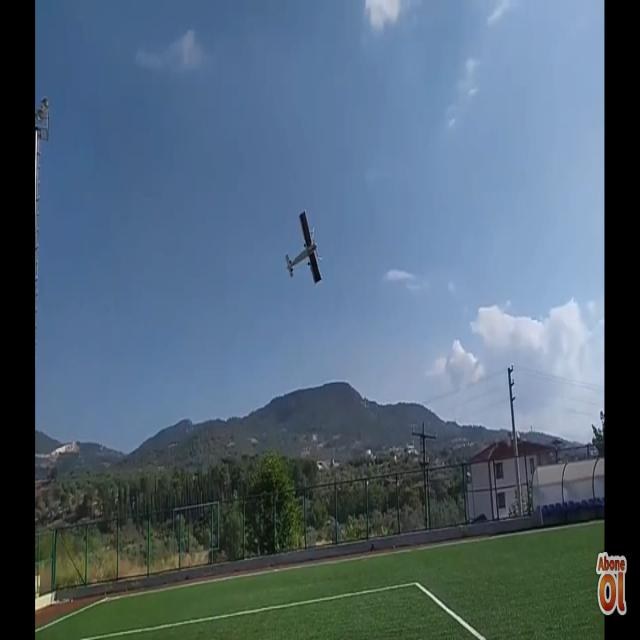iha: (286, 241, 322, 255)
